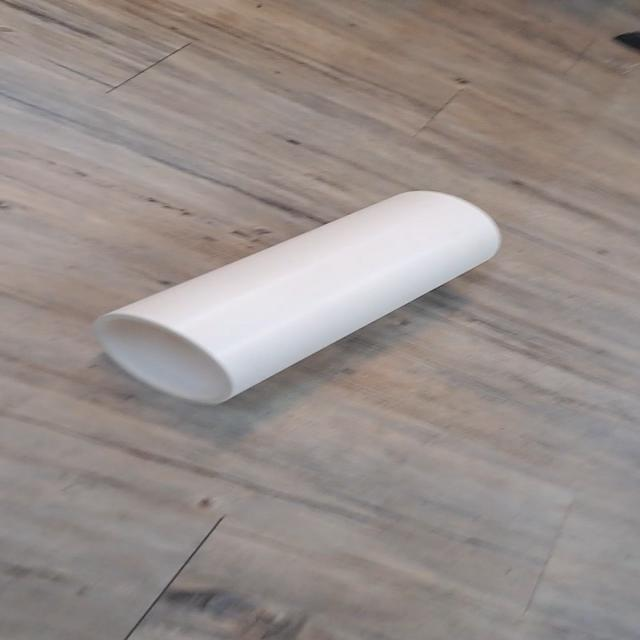CORAL: (71, 185, 508, 420)
